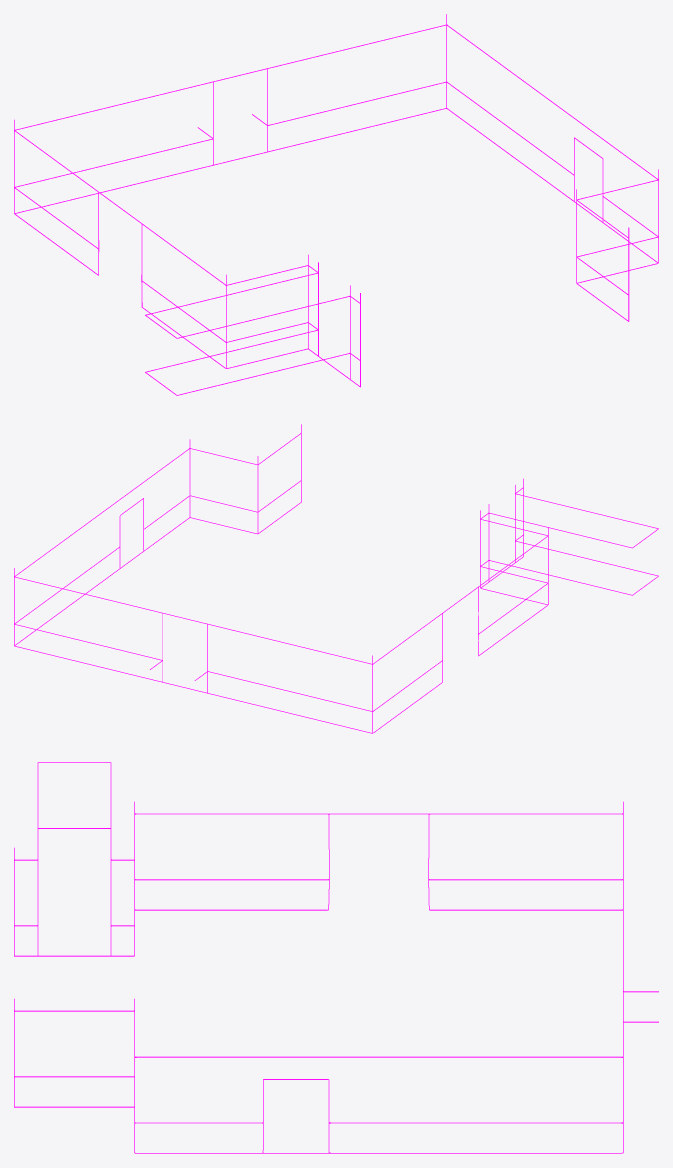
Rendered from neonPinkLight.fbx.
3 renders of one model, top to bottom at view 1: azimuth 30°, elevation 25°; view 2: azimuth 150°, elevation 25°; view 3: azimuth 270°, elevation 25°, orthographic. The views are drawn at different scales.
Visible parts, largest first — view 1: walls.005; view 2: walls.005; view 3: walls.005.
Part boxes in pixels (<box>): walls.005: <box>14,14,658,395</box>; walls.005: <box>14,424,658,733</box>; walls.005: <box>14,762,658,1153</box>.
Size of the model in its own units: 3772 by 649 by 3487.
